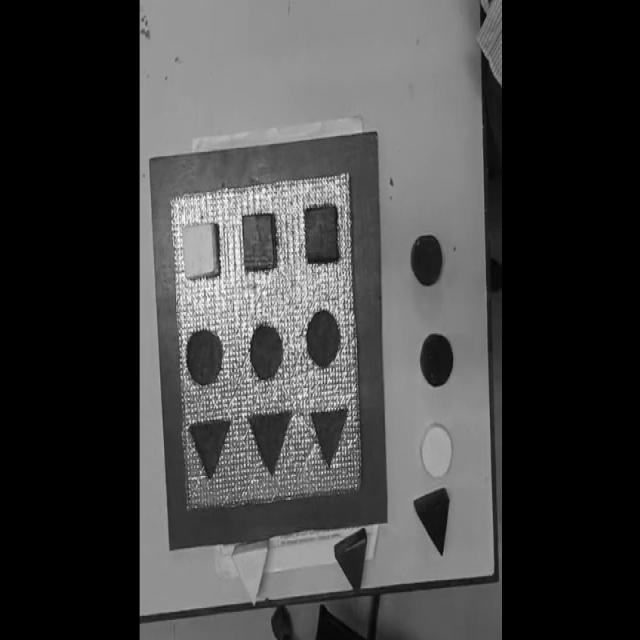bcircle: (420, 333, 454, 389)
bcube: (304, 203, 339, 266)
btriangle: (414, 486, 451, 556)
mtcircle: (186, 327, 224, 385), (306, 308, 341, 367), (250, 324, 284, 381)
mttriangle: (248, 409, 292, 476), (188, 419, 231, 480), (310, 407, 348, 470)
rcircle: (410, 234, 442, 288)
rcube: (242, 212, 277, 272)
rtriangle: (333, 527, 368, 593)
wb: (169, 173, 362, 513)
ycircle: (420, 422, 452, 480)
ycube: (182, 221, 218, 282)
ytriangle: (231, 538, 270, 606)
